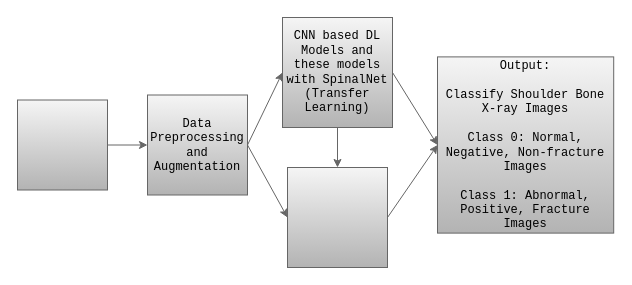
The diagram is 632 pixels wide and 285 high, and some of its shapes have lost their labels. The shapes that lost their labels are listed below. From the top down, each one's box as (x1, y1, x2, y2) in pixels, then its label:
(16, 99, 108, 190): Dataset of Shoulder Bone X-ray Images
(286, 166, 388, 268): Ensemble Models
